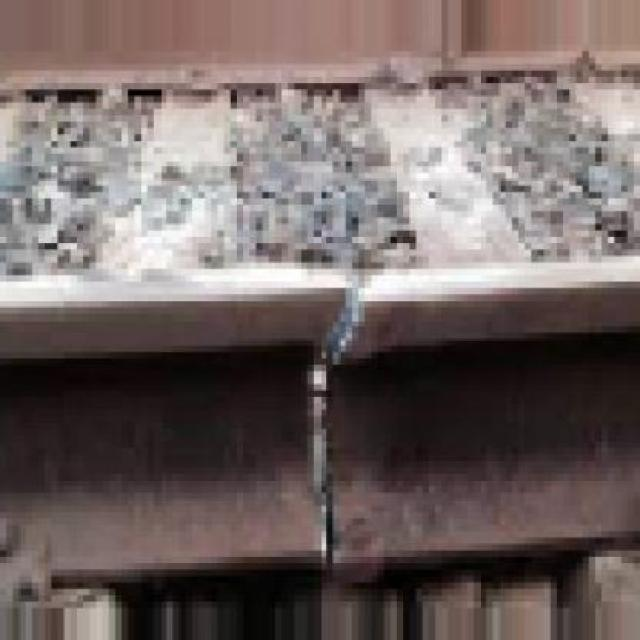defective: (125, 185, 634, 605)
